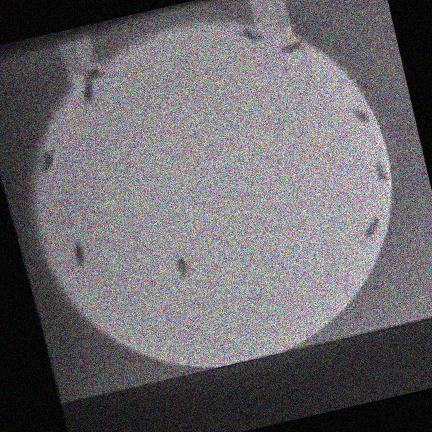fly: (237, 28, 262, 42), (40, 149, 54, 173), (364, 216, 379, 238), (73, 241, 85, 268), (175, 258, 188, 280), (280, 42, 302, 54), (374, 162, 387, 182), (82, 81, 93, 104), (350, 110, 369, 123), (84, 69, 104, 81)
